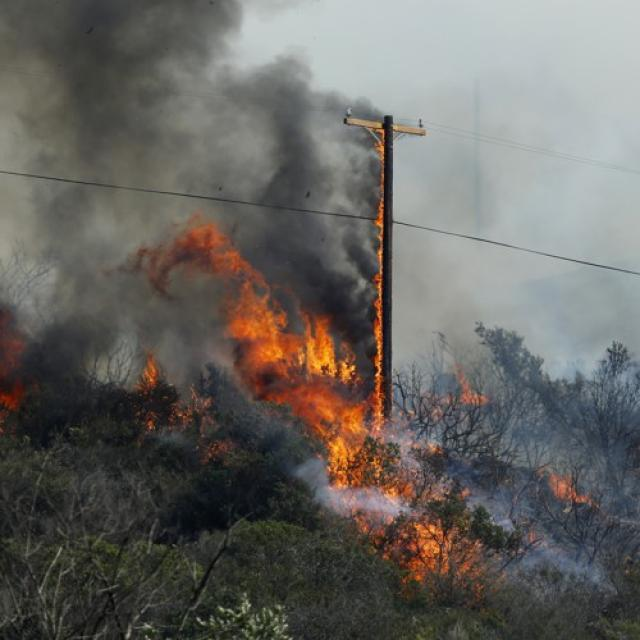Fire: (260, 330, 480, 596), (140, 225, 304, 408)
Smoke: (0, 0, 375, 215), (482, 367, 640, 599), (34, 212, 145, 406), (308, 218, 373, 322)
